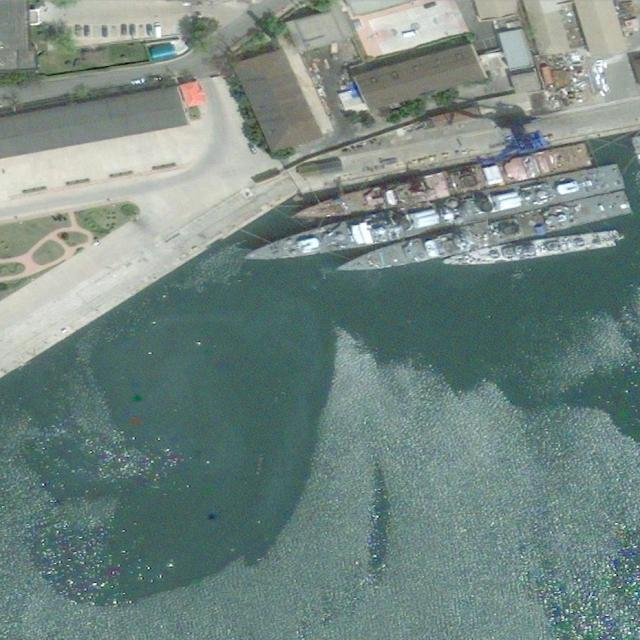Destroyer: (242, 159, 626, 269)
Other Warship: (285, 140, 595, 230), (330, 191, 633, 279), (436, 229, 622, 272)
